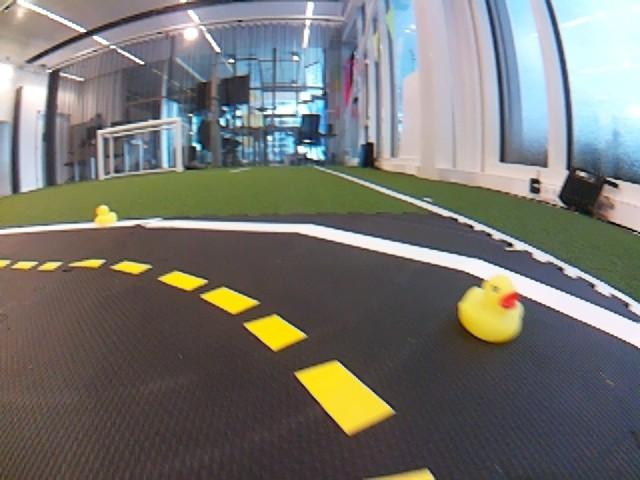Duckies: (459, 277, 523, 344), (95, 205, 118, 226)
